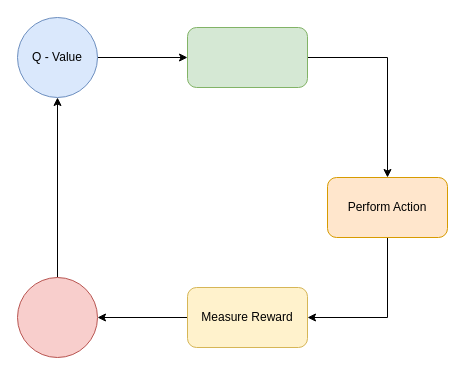
Some shapes in this 465 by 375 pixel diagram are drawn without their labels. The centre of each missing label's shape, as x and y in pixels:
Choose Action: the point at 247,57
Updated Q Value: the point at 57,317
